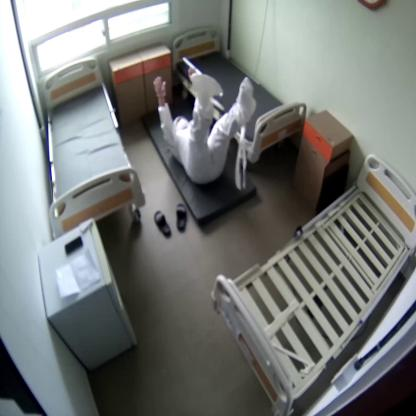Person: (153, 68, 256, 183)
